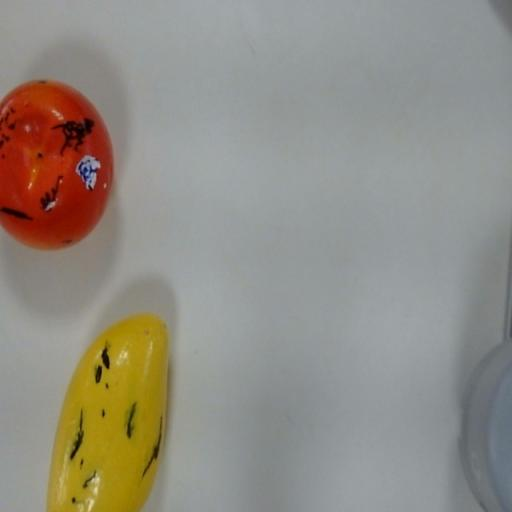Defective: (43, 308, 173, 512), (1, 72, 117, 258)
